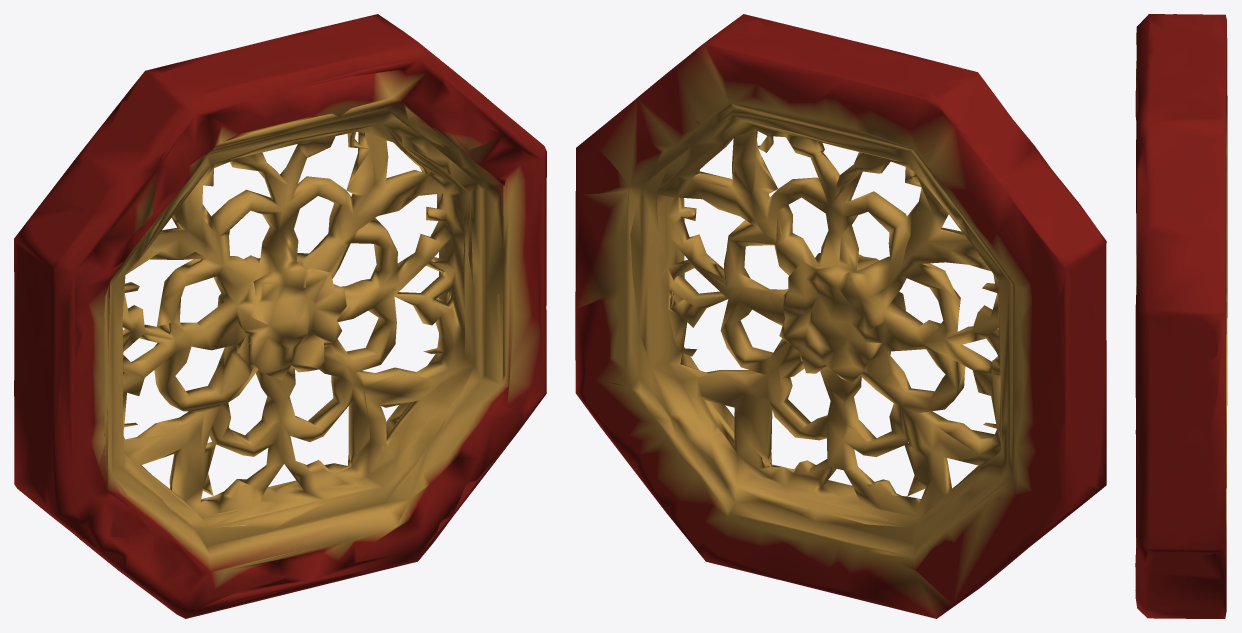
Rendered from huachuang-lite.glb.
3 views of the same model, side by side, from view 1: azimuth 30°, elevation 25°; view 2: azimuth 150°, elevation 25°; view 3: azimuth 270°, elevation 25° (orthographic). The views are drawn at different scales.
Size of the model in its own units: 0.1765 by 0.1778 by 0.0298.
